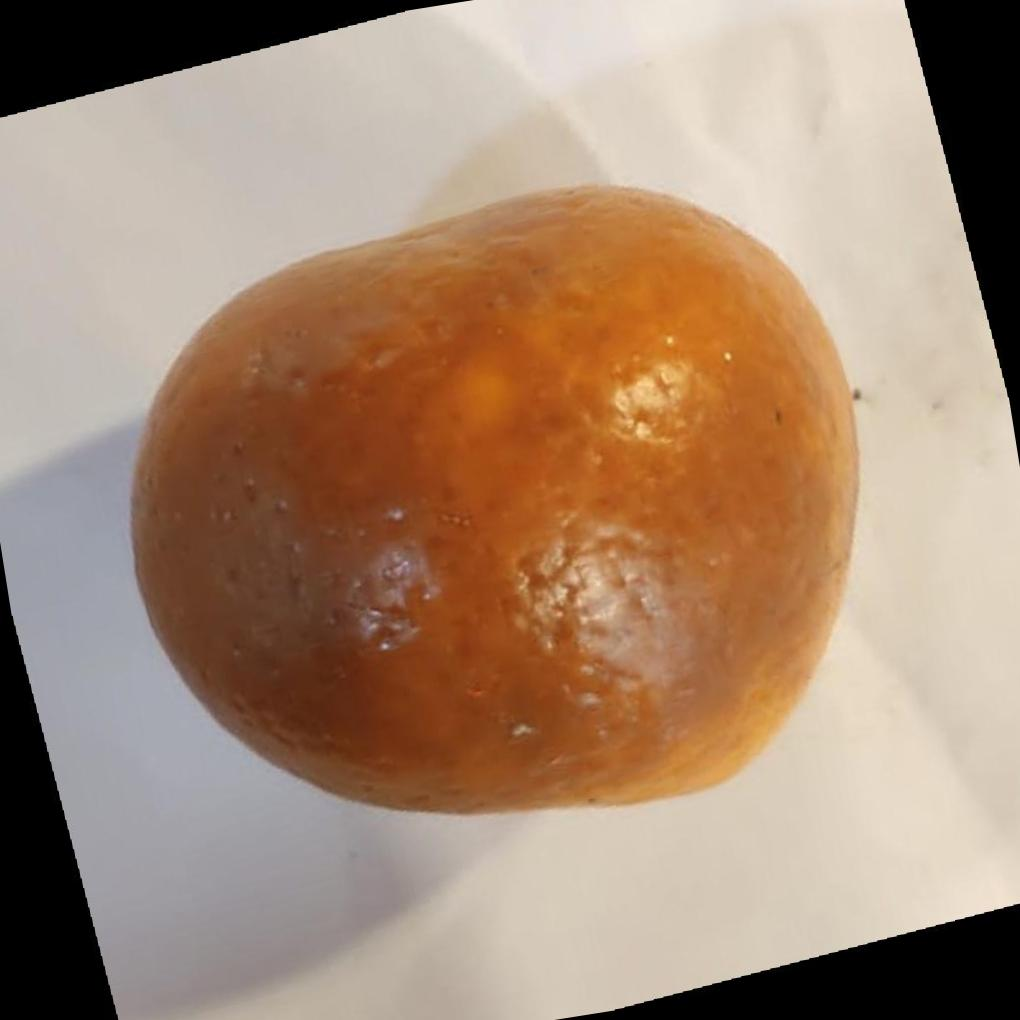FreshOrange: (123, 181, 857, 819)
